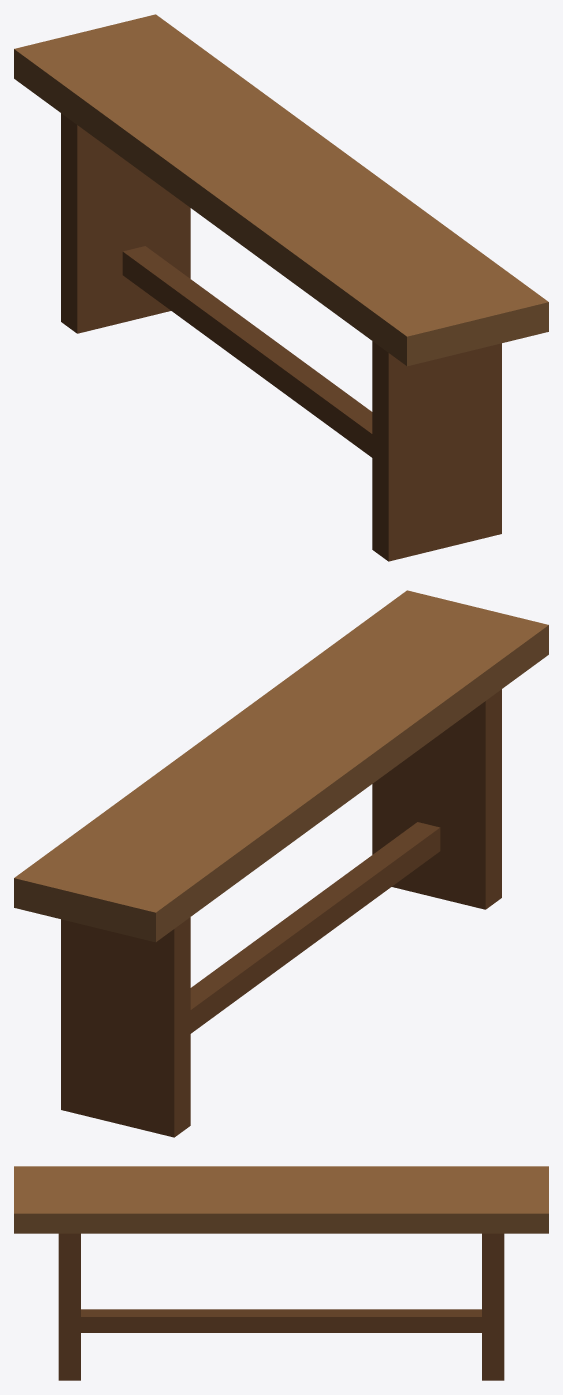
File: Hut_Bench.fbx
3 renders of one model, top to bottom at view 1: azimuth 30°, elevation 25°; view 2: azimuth 150°, elevation 25°; view 3: azimuth 270°, elevation 25°, orthographic. The views are drawn at different scales.
Visible parts, largest first — view 1: Hut_Bench; view 2: Hut_Bench; view 3: Hut_Bench.
Boxes of the visible parts, bbox=[...] form: Hut_Bench: bbox=[14, 14, 548, 561]; Hut_Bench: bbox=[14, 590, 548, 1137]; Hut_Bench: bbox=[14, 1166, 548, 1380].
Size of the model in its own units: 10 by 17 by 48.
